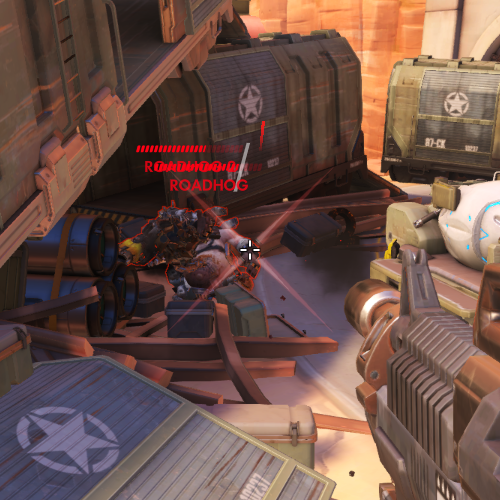hpbar: (135, 144, 244, 153), (154, 163, 263, 171)
